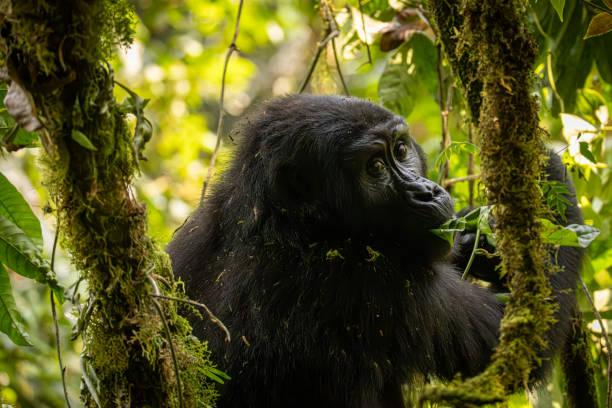goriile_montagne: (177, 89, 533, 408)
